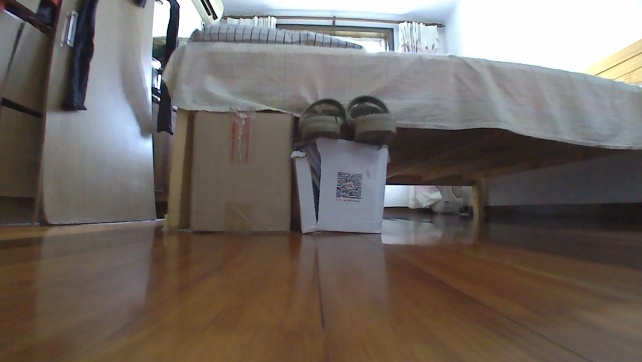bed1: (153, 20, 641, 236)
